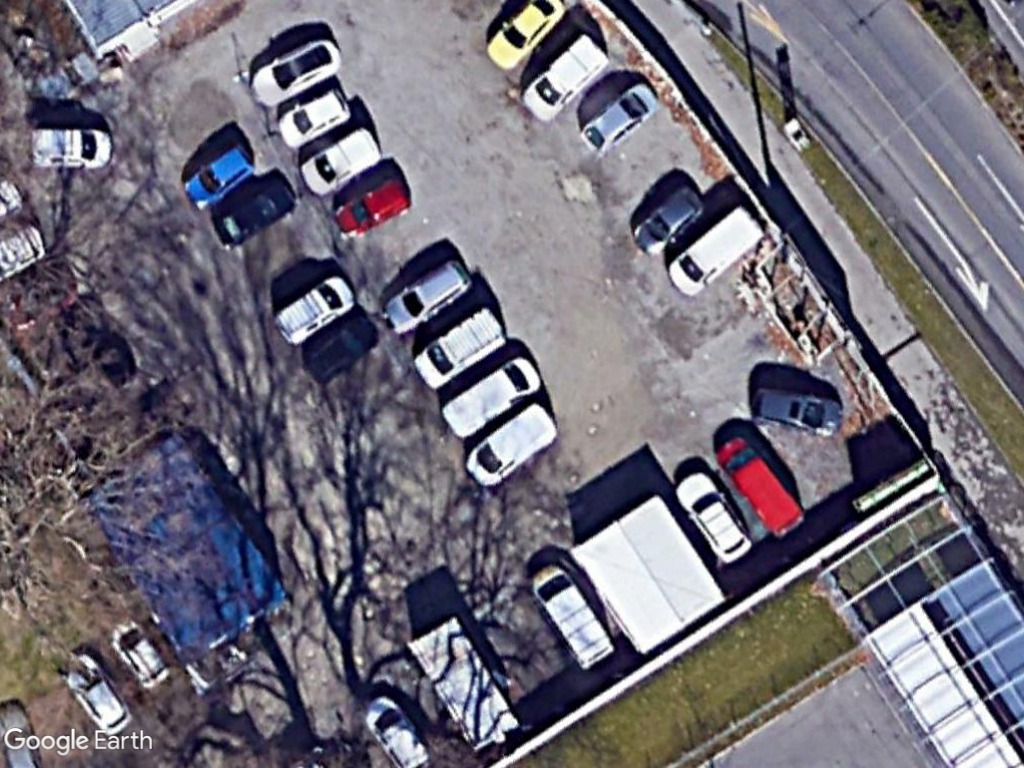car: (672, 470, 760, 569), (379, 258, 471, 336), (475, 0, 568, 72), (249, 36, 344, 106), (577, 75, 659, 156), (212, 175, 296, 250), (300, 121, 380, 199), (630, 184, 706, 259), (748, 380, 846, 438), (363, 693, 433, 768), (183, 139, 256, 209), (333, 172, 410, 237), (277, 86, 352, 152)
van: (527, 557, 619, 673), (713, 429, 807, 540), (438, 348, 542, 445), (462, 397, 565, 490), (668, 202, 764, 295), (521, 30, 612, 125), (412, 308, 512, 394), (272, 274, 354, 348), (26, 126, 118, 175)
